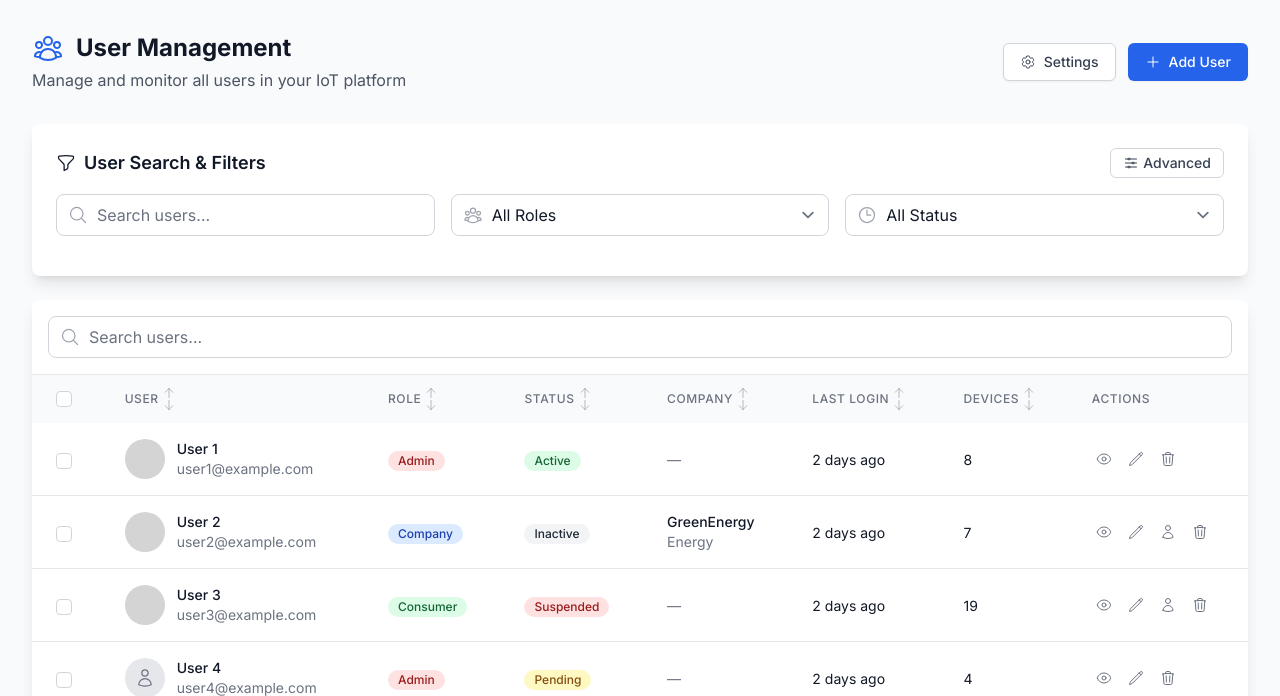
UserManagementPage - Bulk Operations › shows confirmation dialog for delete operation
The image size is (1280, 696).
Expected: the text "User 1" is shown, [177,440,218,457]
Select a user
Click the checkbox next to "user1@example.com" at (64, 461), box [56,453,72,469]
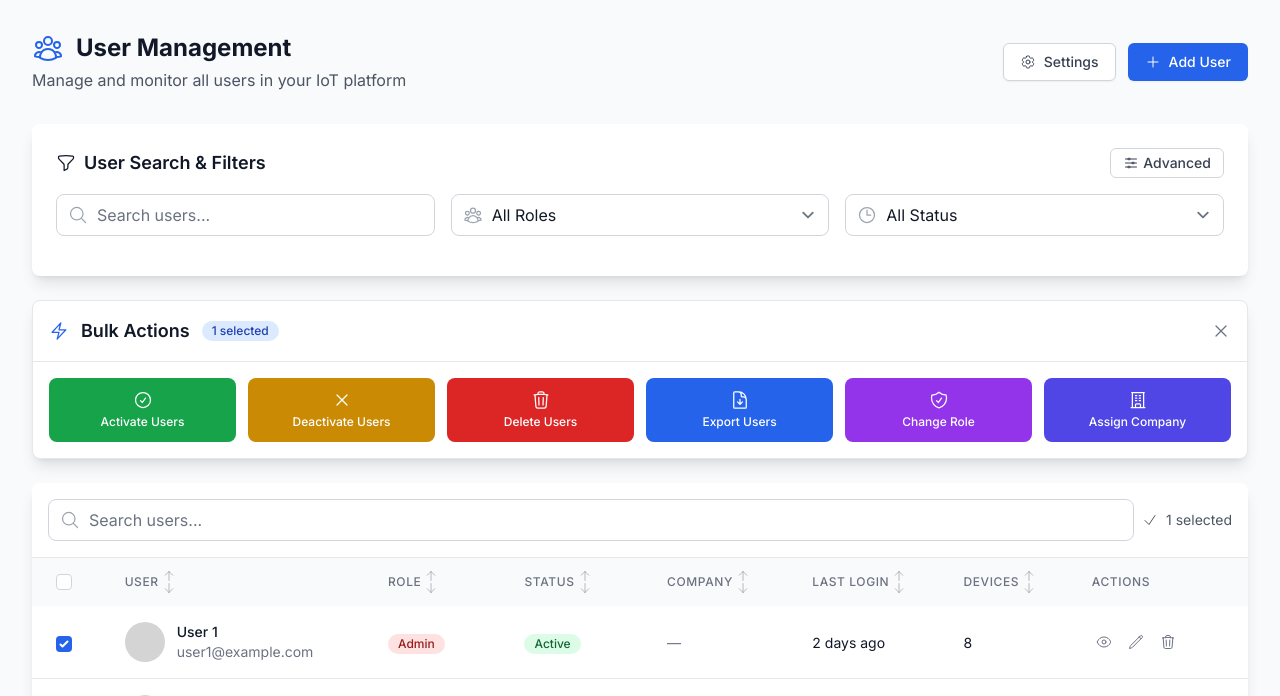
Expected: the heading "Bulk Actions" is shown, [81,317,190,345]
Click delete button
Click the button "Delete Users" at (540, 410), box [447,378,634,442]
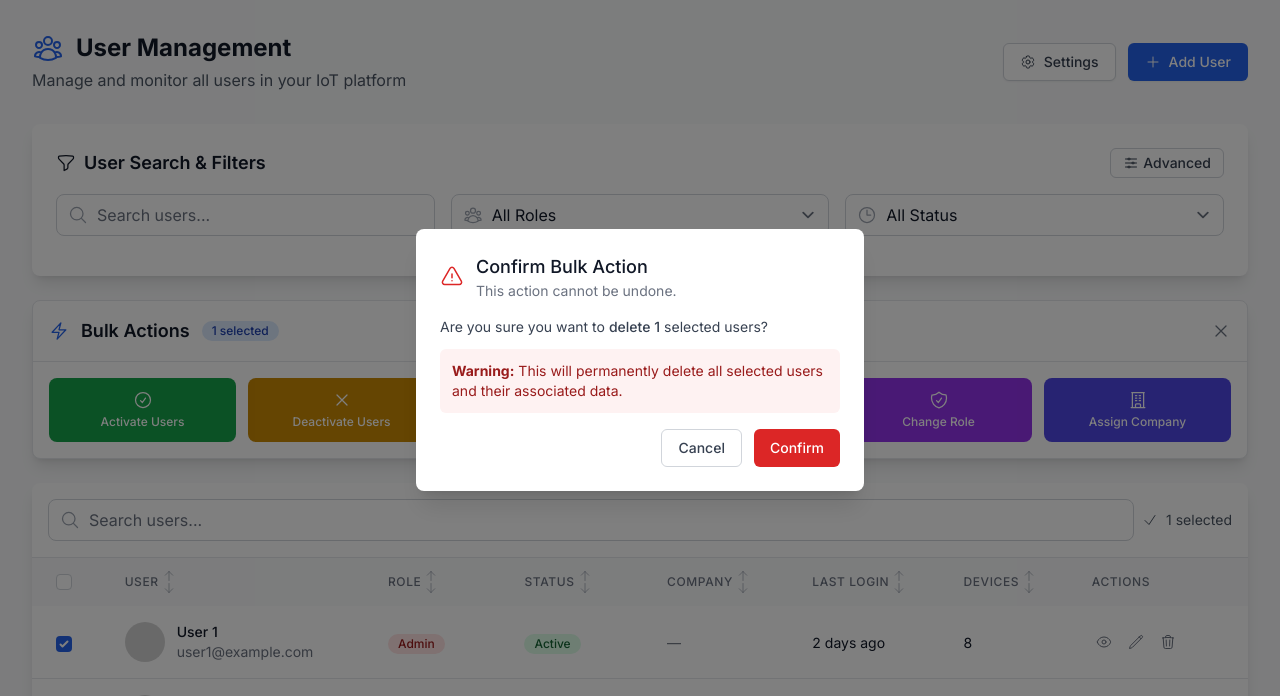
Expected: the heading "Confirm Bulk Action" is shown, [476,253,677,281]
